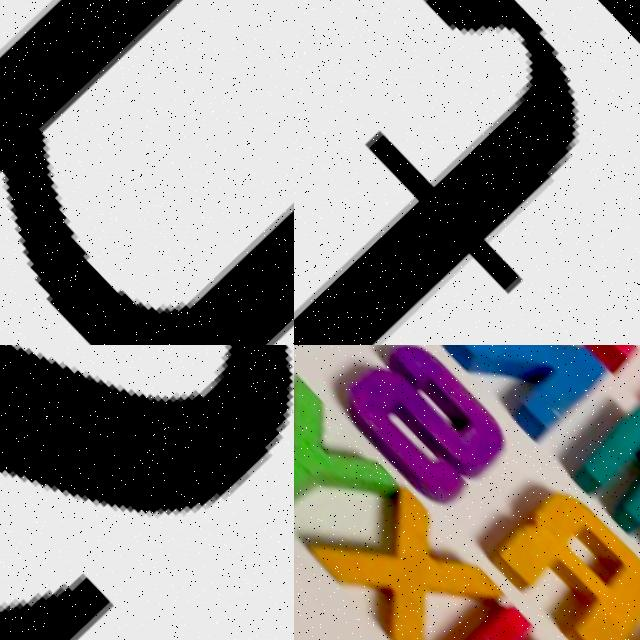F: (294, 0, 640, 345)
M: (552, 382, 640, 579)
N: (424, 345, 619, 451)
R: (465, 462, 640, 640)
S: (0, 345, 294, 640), (326, 345, 517, 513)
U: (0, 0, 294, 345)
W: (409, 587, 620, 640)
X: (301, 470, 503, 640)
Y: (294, 364, 390, 552)
